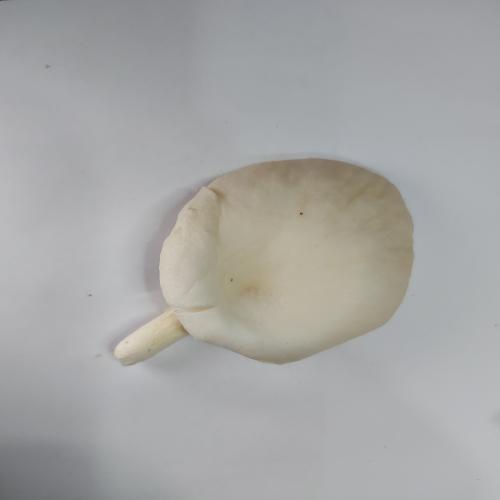Oyster Mushroom: (113, 156, 416, 367)
